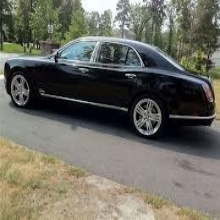no damage: (4, 36, 215, 137)
